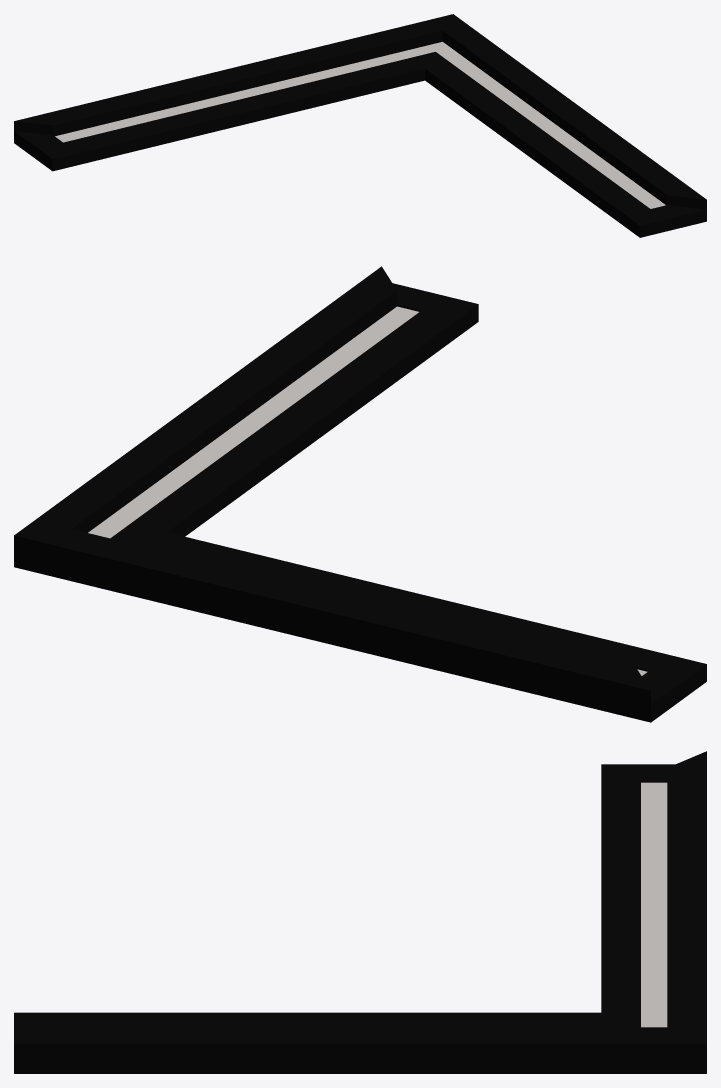
Rendered from recessed_64_corner.obj.
3 views of the same model, one above another, from view 1: azimuth 30°, elevation 25°; view 2: azimuth 150°, elevation 25°; view 3: azimuth 270°, elevation 25° (orthographic). The views are drawn at different scales.
Visible parts, largest first — view 1: Plane.005; view 2: Plane.005; view 3: Plane.005.
Boxes of the visible parts, x1,y1,x2,y2 form: Plane.005: [14, 14, 706, 237]; Plane.005: [14, 266, 706, 722]; Plane.005: [14, 751, 706, 1073].
Size of the model in its own units: 1.05 by 0.05 by 1.05.
